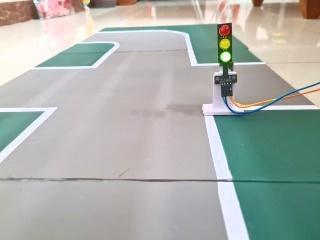green: (209, 14, 239, 82)
